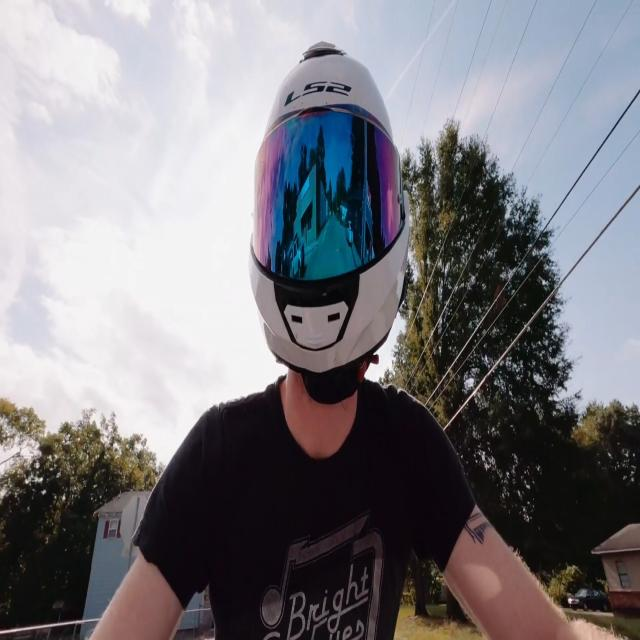Helmet_Wearer: (230, 46, 431, 412)
Person: (88, 44, 566, 640)
